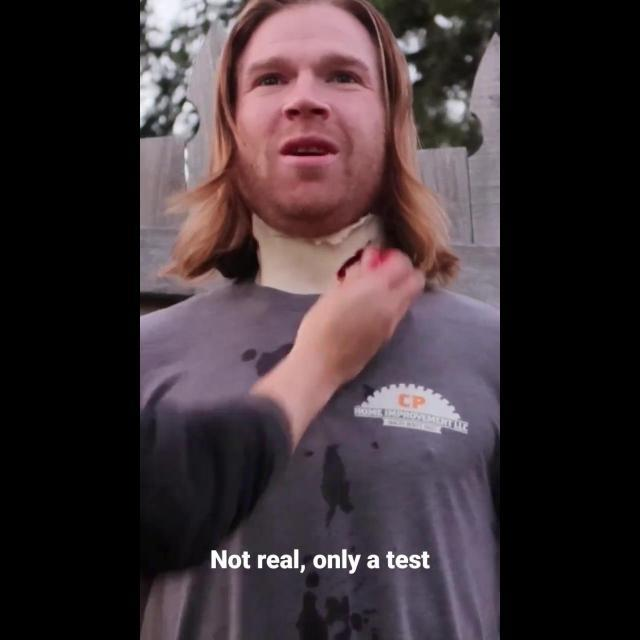blood: (336, 248, 364, 281)
